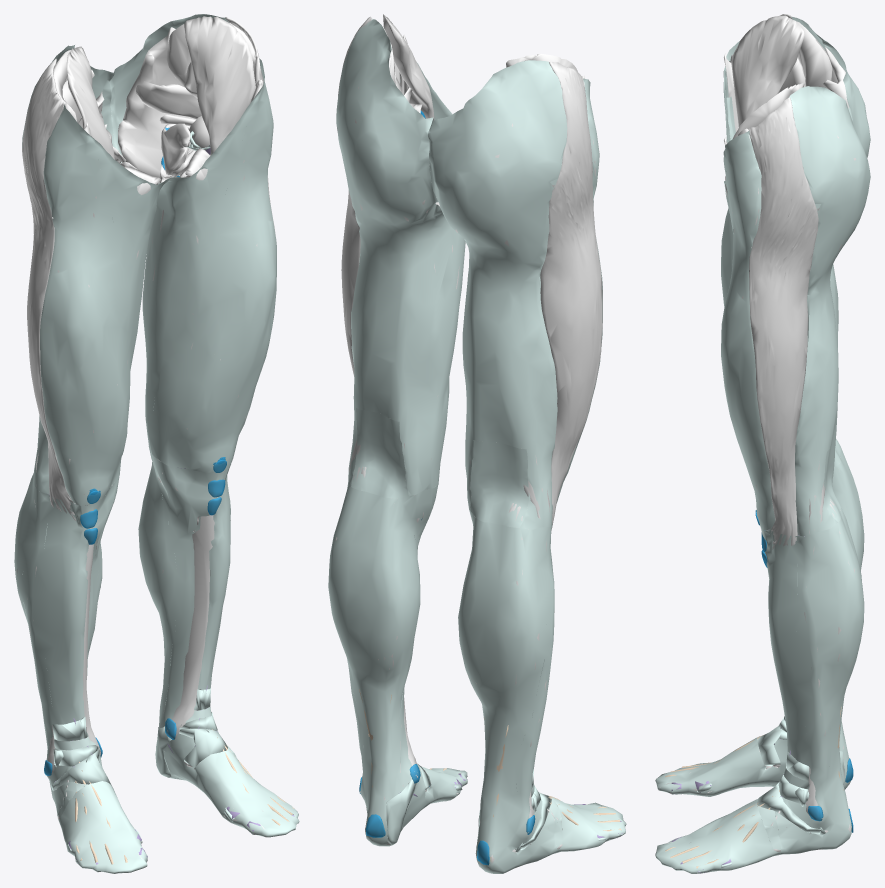
File: knee.glb
The picture shows the model from 3 angles, left to right: view 1: azimuth 30°, elevation 25°; view 2: azimuth 150°, elevation 25°; view 3: azimuth 270°, elevation 25°; orthographic projection. The views are drawn at different scales.
Parts seen in each view (by area): view 1: Fascia lata.l, Fascia lata.r, Crural fascia.r, Crural fascia.l, Iliotibial tract.r, Iliacus muscle.l, Gluteus maximus muscle.l, Tibia.l, Iliacus muscle.r, Piriformis muscle.l, Gluteus medius muscle.l, Obturator internus.l (+4 smaller); view 2: Fascia lata.r, Fascia lata.l, Crural fascia.r, Crural fascia.l, Iliotibial tract.r, Popliteal fascia.r, Popliteal fascia.l, Iliotibial tract.l, Iliacus muscle.l, Flexor retinaculum of ankle.l; view 3: Fascia lata.l, Crural fascia.l, Iliotibial tract.l, Crural fascia.r, Iliacus muscle.r, Fascia lata.r, Gluteus medius muscle.r, Superior fibular retinaculum.l, Iliacus muscle.l, Popliteal fascia.l, Superior fibular retinaculum.r, Gluteus maximus muscle.r (+1 smaller).
Boxes of the visible parts, bbox=[...] form: Fascia lata.l: bbox=[109, 14, 276, 473]; Fascia lata.r: bbox=[22, 45, 170, 505]; Crural fascia.r: bbox=[14, 473, 147, 873]; Crural fascia.l: bbox=[138, 445, 299, 837]; Iliotibial tract.r: bbox=[22, 58, 75, 520]; Iliacus muscle.l: bbox=[184, 16, 255, 155]; Gluteus maximus muscle.l: bbox=[118, 27, 195, 183]; Tibia.l: bbox=[166, 515, 214, 738]; Iliacus muscle.r: bbox=[66, 46, 114, 159]; Piriformis muscle.l: bbox=[135, 81, 201, 119]; Gluteus medius muscle.l: bbox=[166, 23, 255, 87]; Obturator internus.l: bbox=[161, 123, 190, 175]; Fascia lata.r: bbox=[428, 60, 602, 529]; Fascia lata.l: bbox=[336, 18, 465, 496]; Crural fascia.r: bbox=[458, 510, 626, 873]; Crural fascia.l: bbox=[328, 482, 467, 846]; Iliotibial tract.r: bbox=[540, 62, 602, 530]; Popliteal fascia.r: bbox=[470, 440, 528, 527]; Popliteal fascia.l: bbox=[351, 408, 408, 498]; Iliotibial tract.l: bbox=[336, 16, 372, 376]; Iliacus muscle.l: bbox=[383, 14, 434, 120]; Flexor retinaculum of ankle.l: bbox=[386, 778, 416, 845]; Fascia lata.l: bbox=[721, 86, 870, 536]; Crural fascia.l: bbox=[655, 508, 864, 873]; Iliotibial tract.l: bbox=[749, 97, 818, 549]; Crural fascia.r: bbox=[655, 448, 864, 796]; Iliacus muscle.r: bbox=[731, 15, 804, 127]; Fascia lata.r: bbox=[721, 16, 870, 347]; Gluteus medius muscle.r: bbox=[788, 18, 832, 87]; Superior fibular retinaculum.l: bbox=[757, 782, 824, 834]; Iliacus muscle.l: bbox=[733, 82, 804, 138]; Popliteal fascia.l: bbox=[824, 430, 841, 522]; Superior fibular retinaculum.r: bbox=[757, 726, 787, 766]; Gluteus maximus muscle.r: bbox=[823, 46, 849, 108].
Size of the model in its own units: 0.3223 by 0.9964 by 0.2521.
